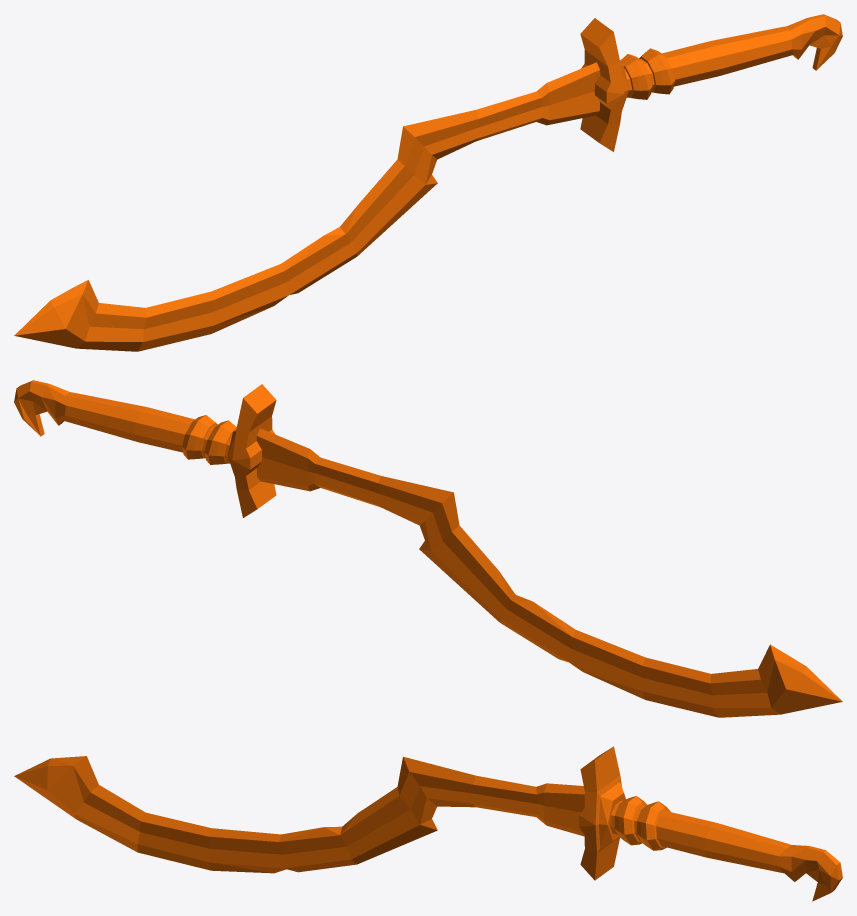
Rendered from CGM_ENV_WEP_khopesh4.fbx.
The picture shows the model from 3 angles, top to bottom: view 1: azimuth 30°, elevation 25°; view 2: azimuth 150°, elevation 25°; view 3: azimuth 330°, elevation 25°; orthographic projection.
Parts seen in each view (by area): view 1: CGM_ENV_WEP_khopesh4; view 2: CGM_ENV_WEP_khopesh4; view 3: CGM_ENV_WEP_khopesh4.
Part boxes in pixels (x1,y1,x2,y2): CGM_ENV_WEP_khopesh4: (14,14,842,351); CGM_ENV_WEP_khopesh4: (14,380,842,717); CGM_ENV_WEP_khopesh4: (14,746,842,901).
Size of the model in its own units: 167 by 41.18 by 10.15.
